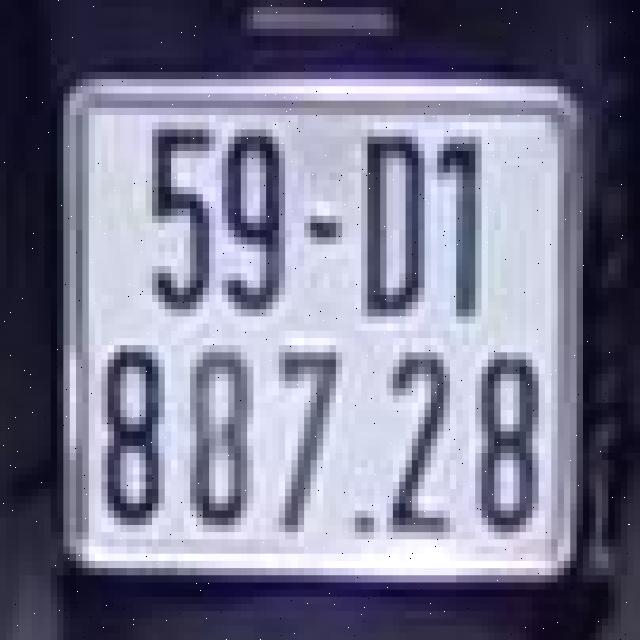1: (434, 119, 478, 348)
2: (380, 345, 456, 532)
5: (140, 108, 216, 309)
7: (266, 327, 349, 550)
8: (171, 324, 260, 532), (89, 320, 171, 529), (469, 345, 545, 554)
9: (215, 122, 298, 316)
D: (349, 112, 437, 327)
